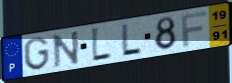8: (153, 15, 178, 52)
F: (180, 10, 208, 48)
G: (23, 35, 52, 72)
L: (90, 26, 113, 64), (120, 22, 143, 57)
N: (51, 29, 81, 70)
